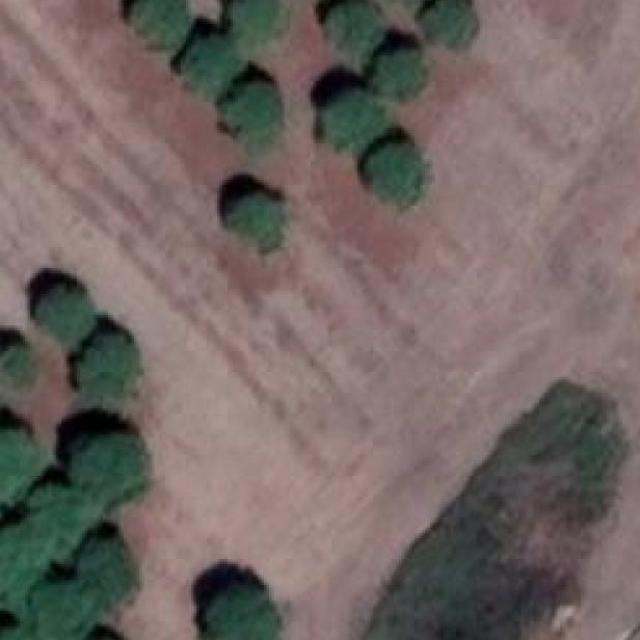Tree: (69, 440, 138, 509), (206, 579, 276, 640), (319, 91, 382, 155), (30, 582, 99, 640), (225, 188, 290, 246), (226, 79, 284, 143), (80, 538, 137, 601), (25, 490, 83, 550), (324, 0, 379, 60), (184, 34, 238, 90), (82, 341, 135, 398), (371, 148, 420, 208), (36, 282, 88, 338), (0, 529, 37, 600), (124, 0, 185, 41), (375, 38, 421, 92), (423, 0, 474, 45), (0, 432, 31, 506), (0, 340, 36, 390), (230, 0, 278, 36), (381, 0, 430, 7)
